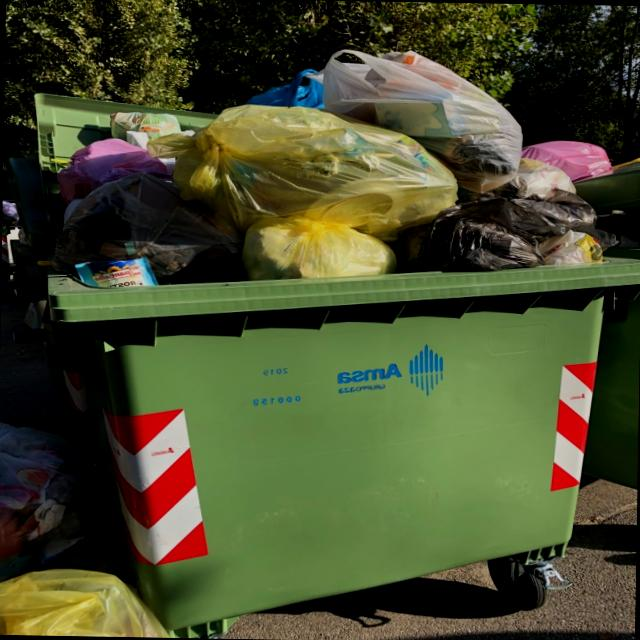garbage: (22, 46, 631, 640)
